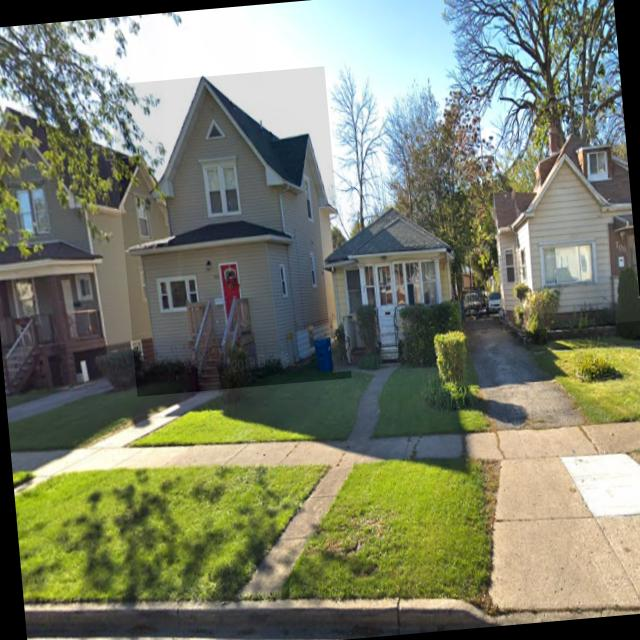House: (110, 66, 351, 397), (0, 96, 182, 397), (485, 116, 640, 332), (318, 195, 462, 372)
